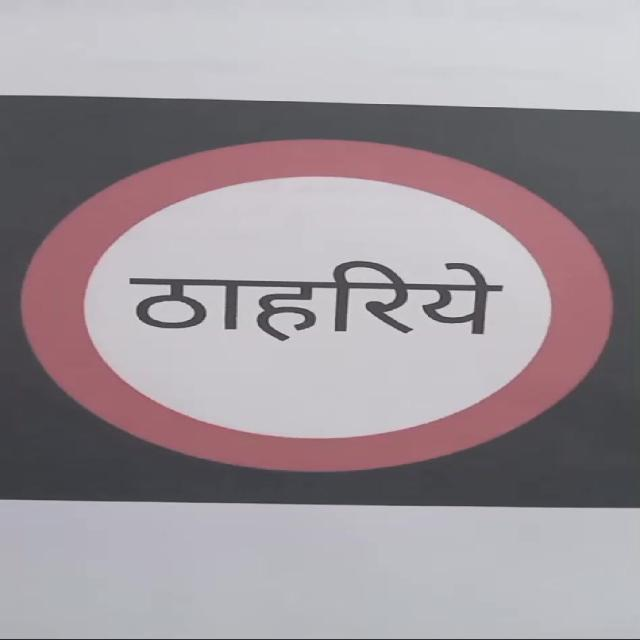hindistop: (3, 95, 637, 504), (126, 259, 503, 341)
